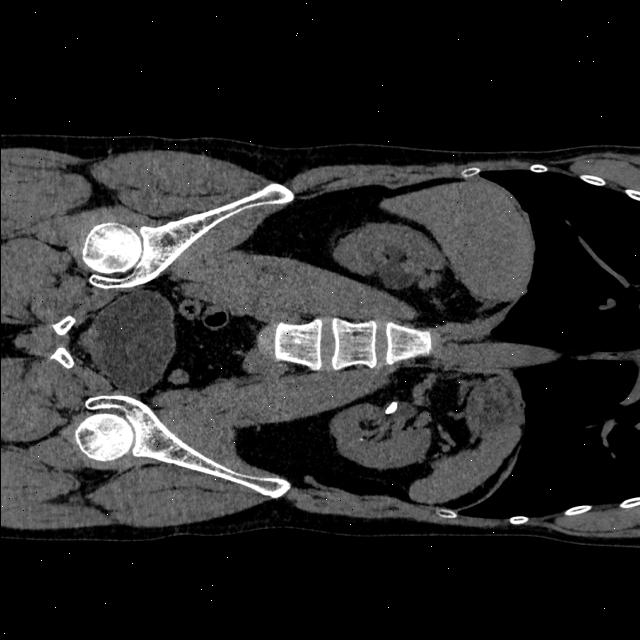kidneystone: (384, 401, 396, 415), (357, 436, 365, 441)
